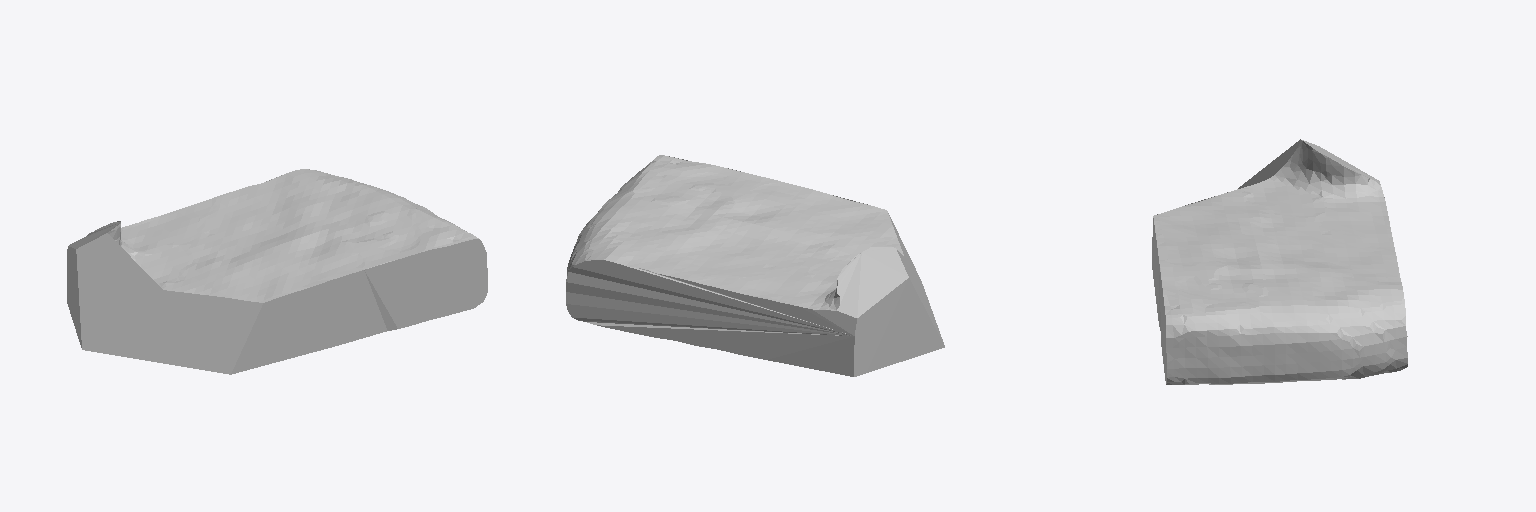
Rendered from low_cell_026.obj.
3 renders of one model, left to right at view 1: azimuth 30°, elevation 25°; view 2: azimuth 150°, elevation 25°; view 3: azimuth 270°, elevation 25°, orthographic.
Visible parts, largest first — view 1: low_cell.026_low_cell.025; view 2: low_cell.026_low_cell.025; view 3: low_cell.026_low_cell.025.
Boxes of the visible parts, box(x1,y1,x2,y2) form: low_cell.026_low_cell.025: box(67, 169, 487, 374); low_cell.026_low_cell.025: box(566, 155, 944, 376); low_cell.026_low_cell.025: box(1152, 139, 1407, 384).
Bounding box in the file's own units: 0.7224 × 0.1971 × 0.4572.